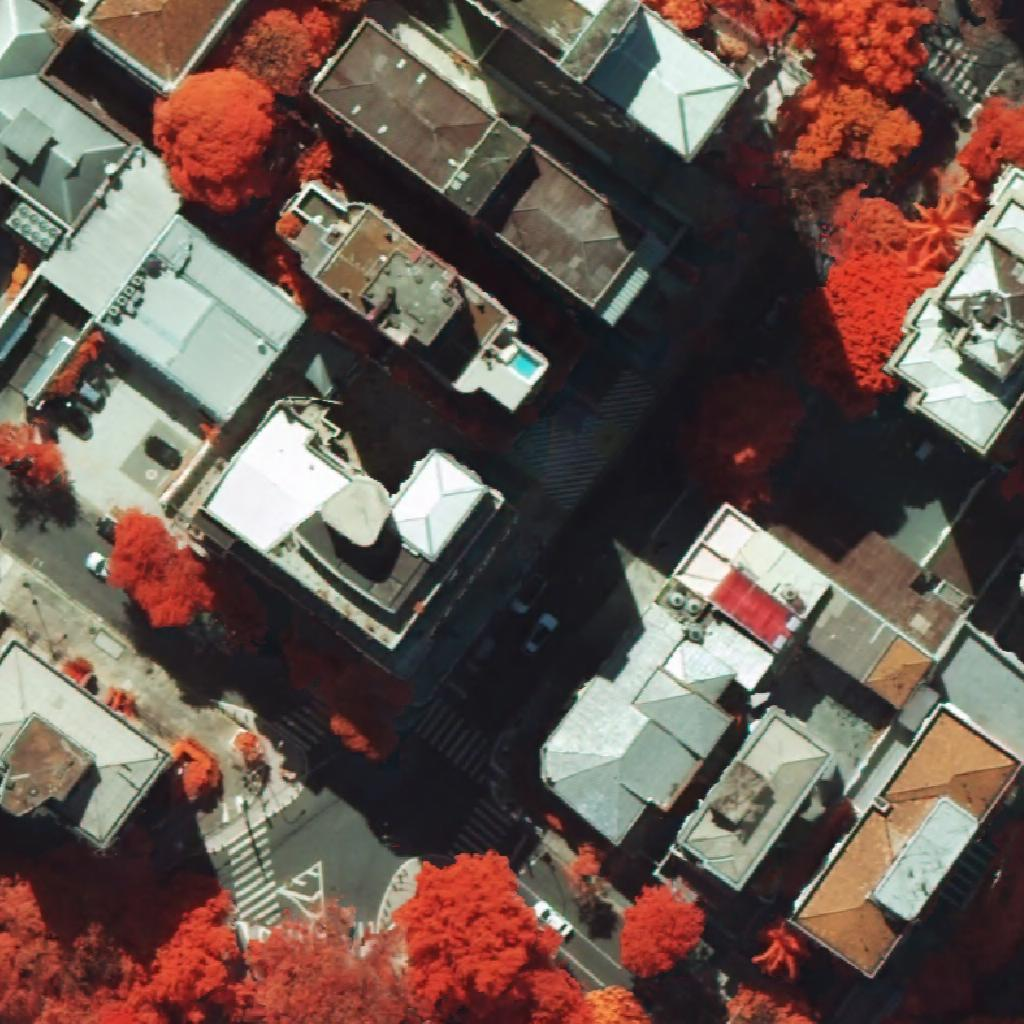pool: (509, 350, 540, 379)
